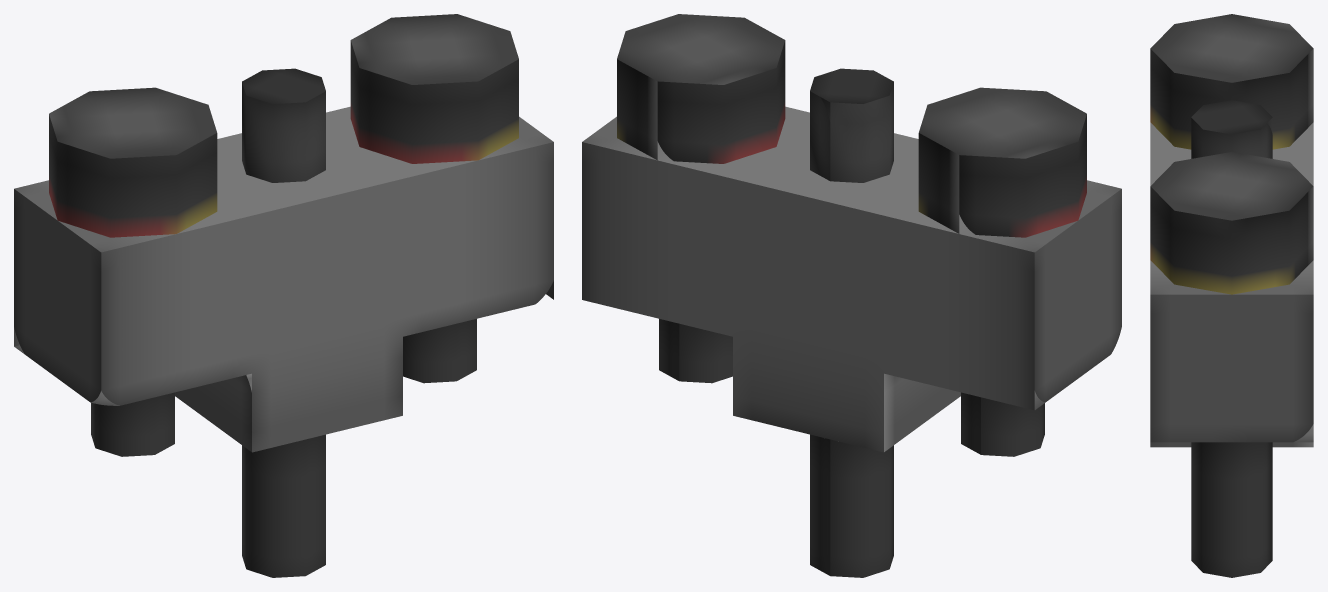
Rendered from pumpjack_carriage.obj.
3 views of the same model, side by side, from view 1: azimuth 30°, elevation 25°; view 2: azimuth 150°, elevation 25°; view 3: azimuth 270°, elevation 25° (orthographic). The views are drawn at different scales.
Visible parts, largest first — view 1: Carriage; view 2: Carriage; view 3: Carriage.
Boxes of the visible parts, bbox=[...] form: Carriage: bbox=[14, 14, 553, 577]; Carriage: bbox=[582, 14, 1121, 577]; Carriage: bbox=[1150, 14, 1313, 577].
Size of the model in its own units: 0.75 by 0.75 by 0.25.
